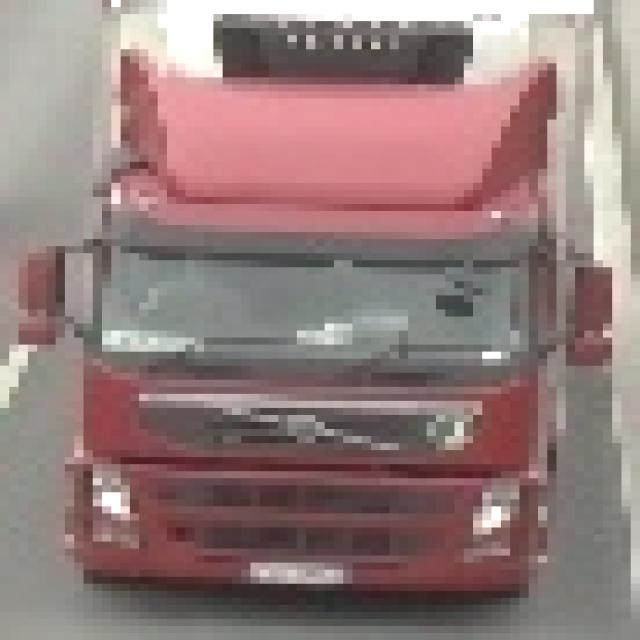truck: (10, 1, 604, 606)
